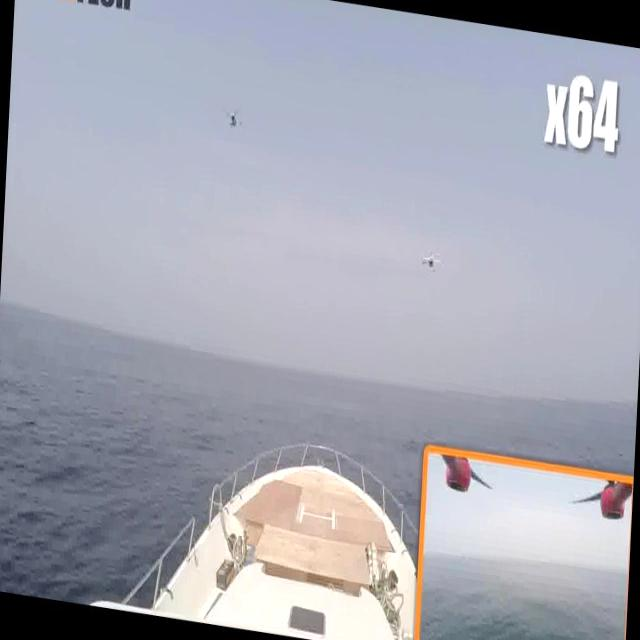drone: (413, 241, 451, 283), (216, 97, 252, 139)
